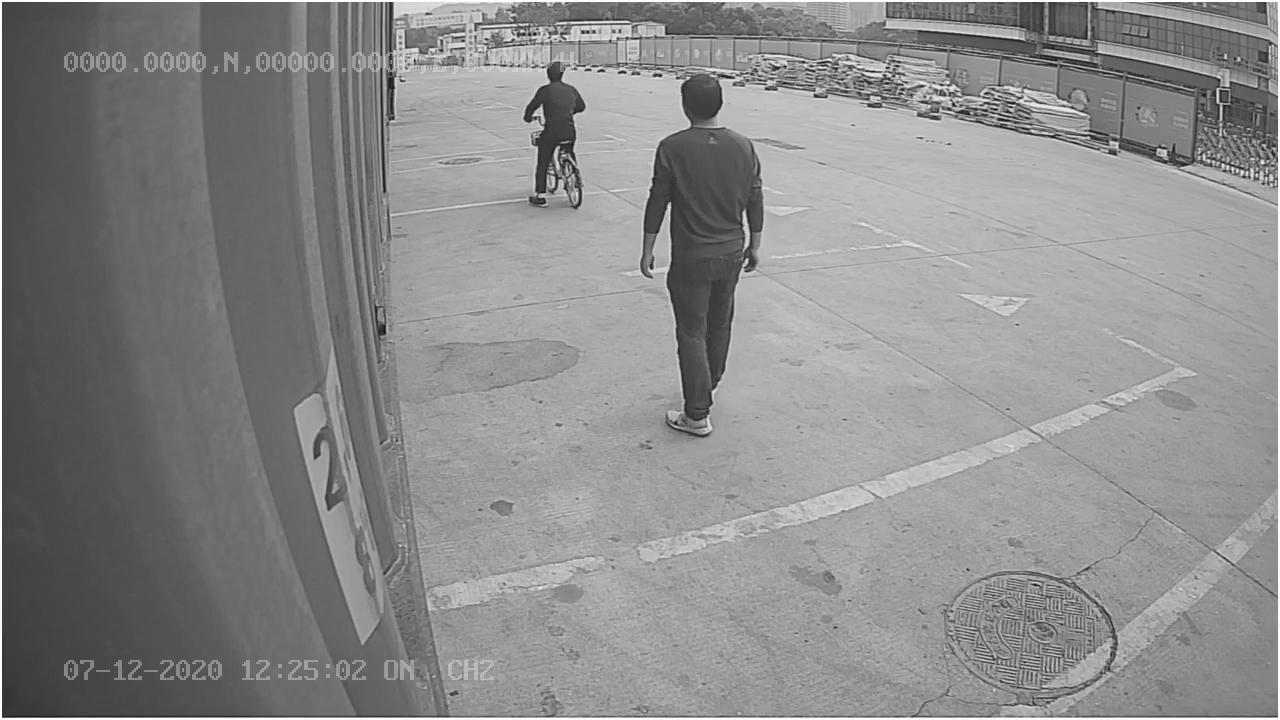person: (635, 71, 768, 436)
